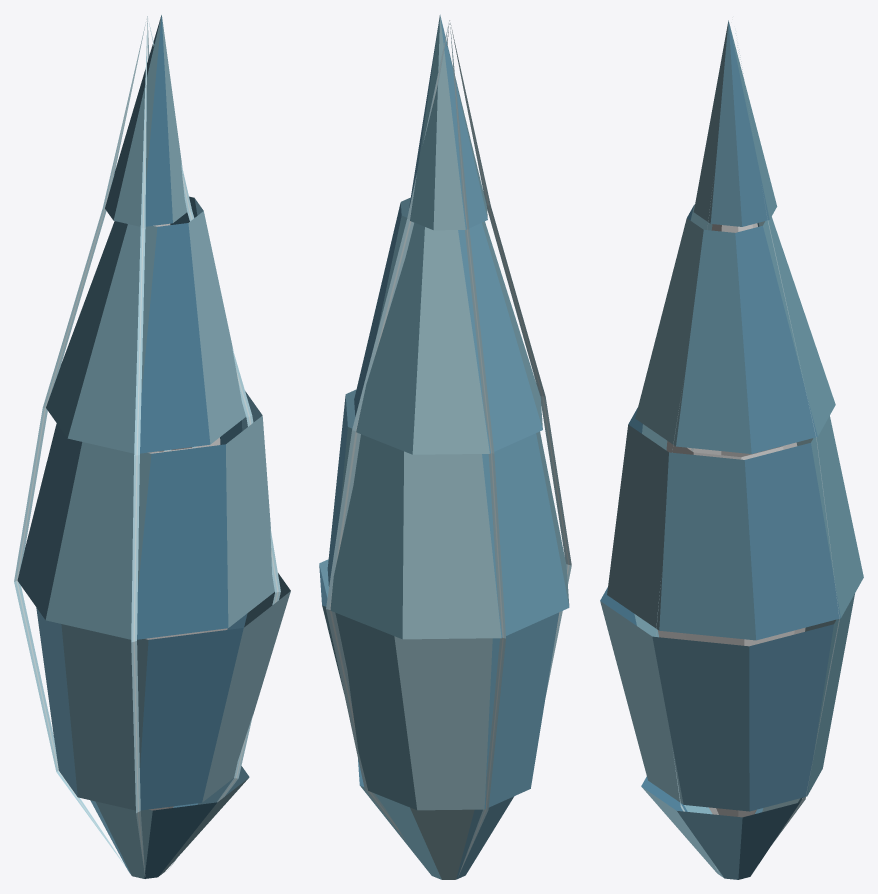
Rendered from Ganyu_FrostflakeArrowBloom_Projectile.fbx.
3 renders of one model, left to right at view 1: azimuth 30°, elevation 25°; view 2: azimuth 150°, elevation 25°; view 3: azimuth 270°, elevation 25°, orthographic.
Parts seen in each view (by area): view 1: ASSET_KaeyaOrbit_Icicle1_CrystalBody, ASSET_KaeyaOrbit_Icicle1_FacetGleam_2, ASSET_KaeyaOrbit_Icicle1_FacetGleam_1, ASSET_KaeyaOrbit_Icicle1_FacetGleam_3; view 2: ASSET_KaeyaOrbit_Icicle1_CrystalBody, ASSET_KaeyaOrbit_Icicle1_FacetGleam_0, ASSET_KaeyaOrbit_Icicle1_FacetGleam_1, ASSET_KaeyaOrbit_Icicle1_FacetGleam_2; view 3: ASSET_KaeyaOrbit_Icicle1_CrystalBody, ASSET_KaeyaOrbit_Icicle1_MilkyTrappedIce, ASSET_KaeyaOrbit_Icicle1_FacetGleam_0.
Boxes of the visible parts, x1,y1,x2,y2 form: ASSET_KaeyaOrbit_Icicle1_CrystalBody: [17, 15, 290, 878]; ASSET_KaeyaOrbit_Icicle1_FacetGleam_2: [131, 25, 147, 876]; ASSET_KaeyaOrbit_Icicle1_FacetGleam_1: [14, 19, 146, 867]; ASSET_KaeyaOrbit_Icicle1_FacetGleam_3: [148, 21, 280, 869]; ASSET_KaeyaOrbit_Icicle1_CrystalBody: [319, 14, 569, 879]; ASSET_KaeyaOrbit_Icicle1_FacetGleam_0: [326, 21, 449, 842]; ASSET_KaeyaOrbit_Icicle1_FacetGleam_1: [450, 23, 505, 876]; ASSET_KaeyaOrbit_Icicle1_FacetGleam_2: [451, 25, 571, 696]; ASSET_KaeyaOrbit_Icicle1_CrystalBody: [600, 20, 863, 879]; ASSET_KaeyaOrbit_Icicle1_MilkyTrappedIce: [658, 223, 805, 817]; ASSET_KaeyaOrbit_Icicle1_FacetGleam_0: [739, 49, 839, 844].
Bounding box in the file's own units: 35.17 × 123 × 34.27.
